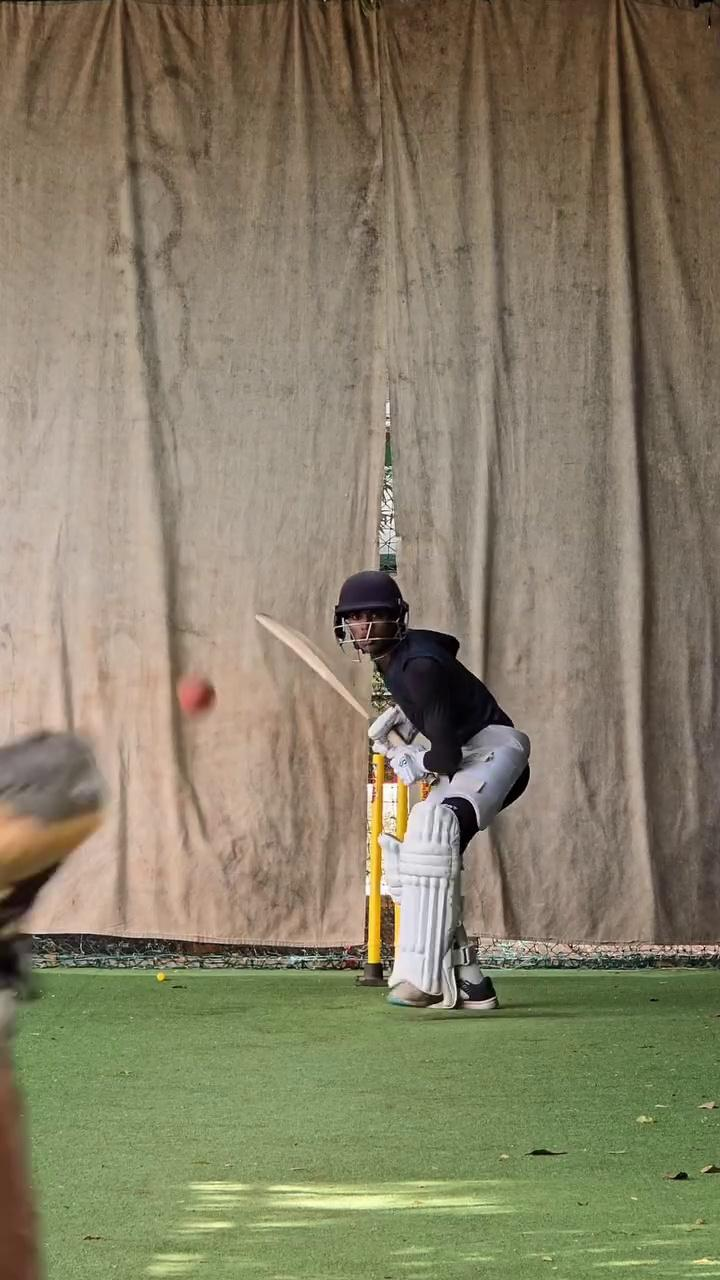bat: (250, 591, 376, 739)
